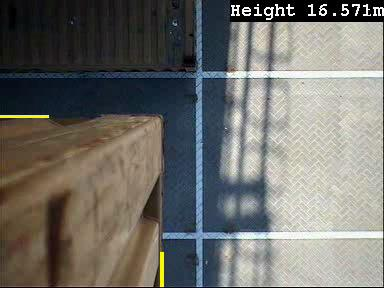groundmarker_2: (193, 47, 237, 104)
